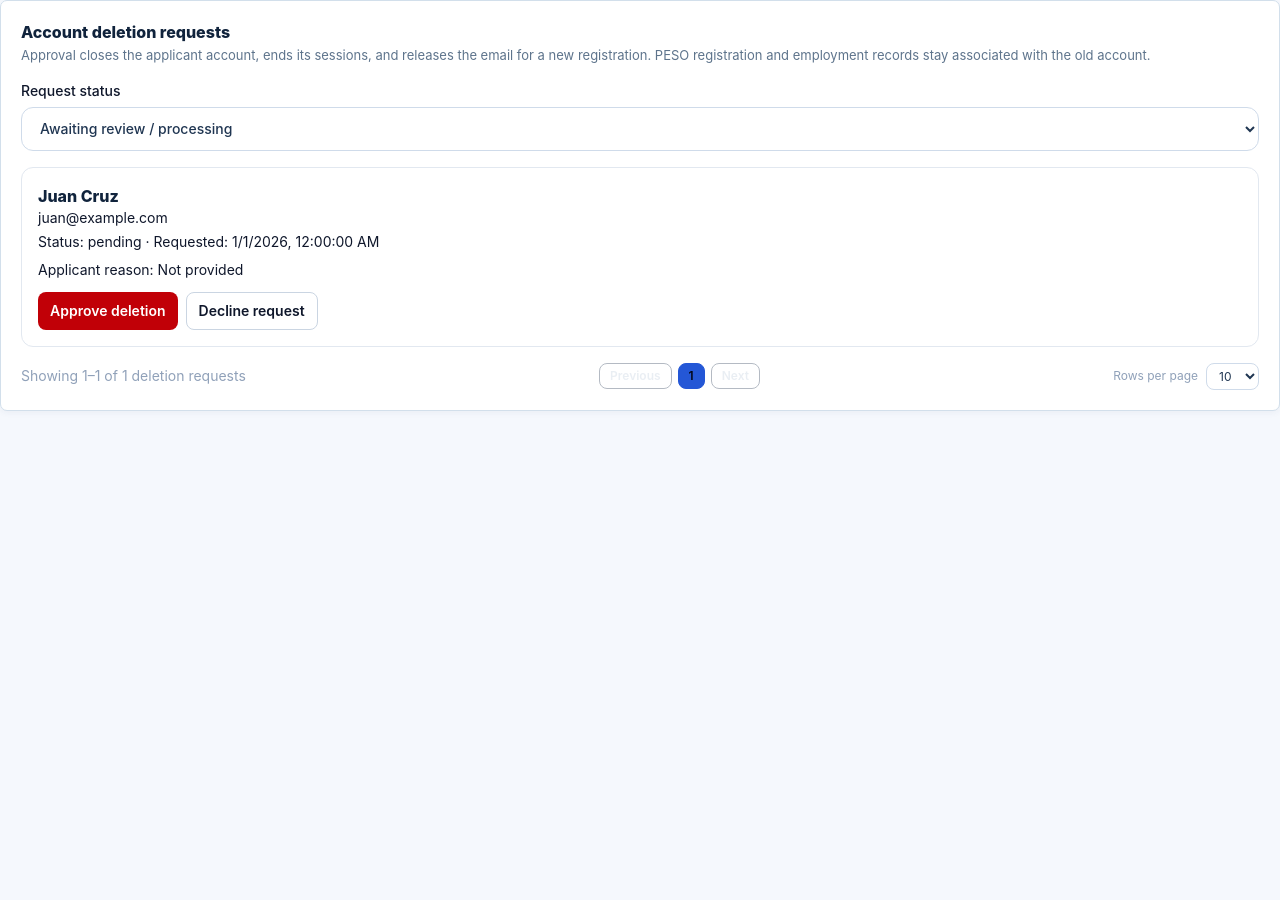
it: account deletion screens › requires admin approval confirmation and refreshes the queue after success
Click the button "Approve deletion": click(108, 311) [38, 292, 178, 330]
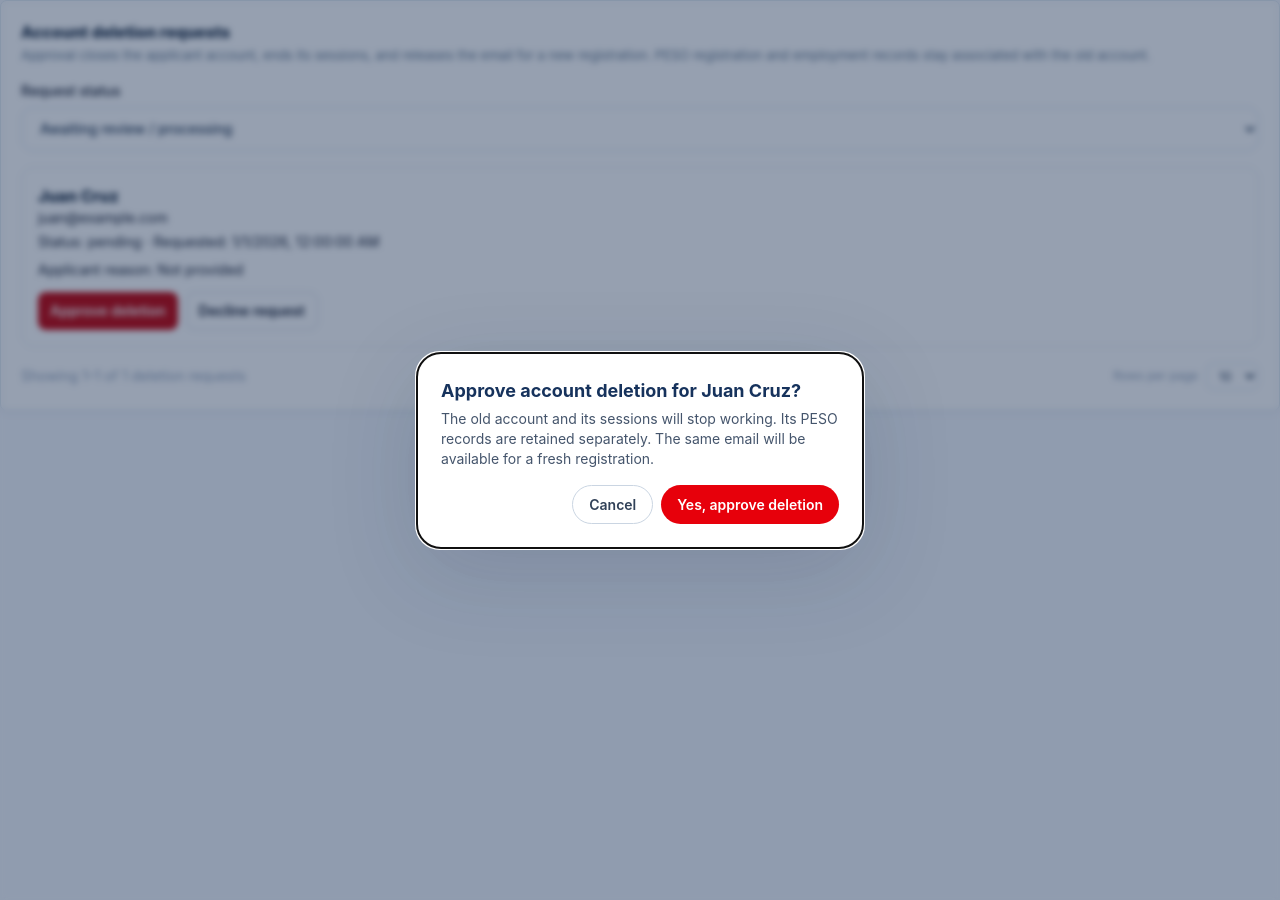
Click the button "Yes, approve deletion": click(750, 504) [661, 484, 839, 524]
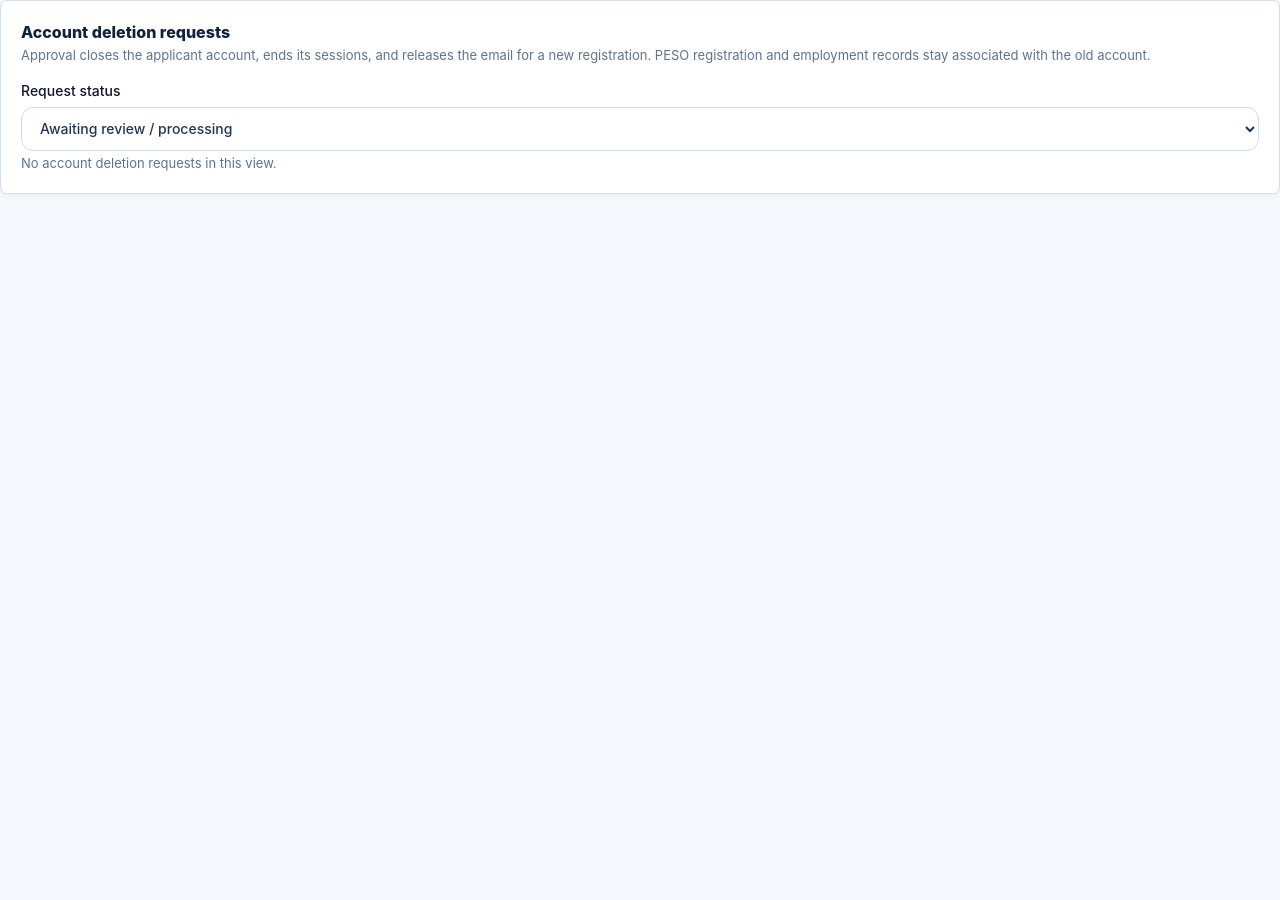
Now the text "No account deletion requests in this view." is shown, box [21, 155, 277, 171]
